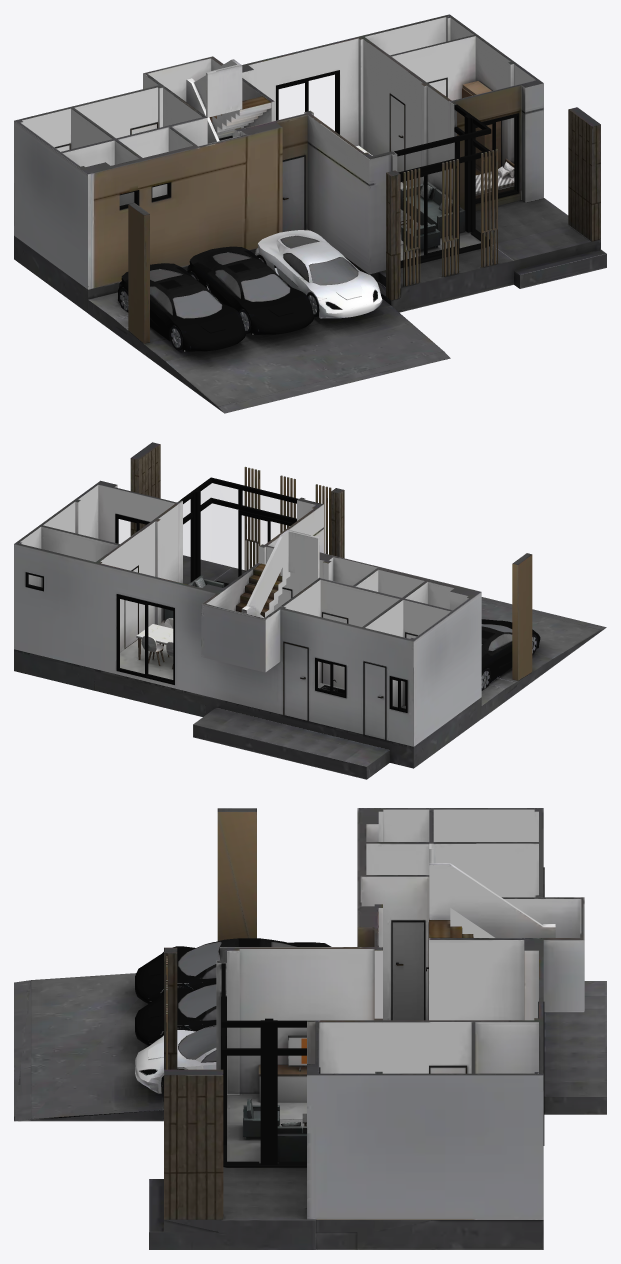
File: SH2509_1stFloorBaked_v02.gltf
The picture shows the model from 3 angles, top to bottom: view 1: azimuth 30°, elevation 25°; view 2: azimuth 150°, elevation 25°; view 3: azimuth 270°, elevation 25°; orthographic projection. The views are drawn at different scales.
Visible parts, largest first — view 1: f1, f1.002, f1.005, car1, car2, car2.001, f1.004, f1.003, f1.001; view 2: f1, f1.002, f1.005, f1.004, car2.001, f1.003; view 3: f1, f1.002, f1.005, f1.004, f1.003, car2.001, car1, car2.
Part boxes in pixels (left/top/right/bottom): f1: left=14, top=14, right=543, bottom=289; f1.002: left=14, top=168, right=606, bottom=413; f1.005: left=55, top=77, right=600, bottom=343; car1: left=255, top=230, right=382, bottom=318; car2: left=187, top=246, right=314, bottom=334; car2.001: left=118, top=263, right=245, bottom=351; f1.004: left=119, top=70, right=519, bottom=267; f1.003: left=356, top=81, right=514, bottom=252; f1.001: left=460, top=127, right=489, bottom=236; f1: left=14, top=480, right=481, bottom=746; f1.002: left=14, top=555, right=606, bottom=779; f1.005: left=124, top=442, right=532, bottom=739; f1.004: left=25, top=477, right=407, bottom=712; car2.001: left=481, top=619, right=540, bottom=690; f1.003: left=136, top=575, right=344, bottom=693; f1: left=216, top=808, right=584, bottom=1219; f1.002: left=14, top=973, right=606, bottom=1249; f1.005: left=164, top=808, right=544, bottom=1219; f1.004: left=221, top=867, right=544, bottom=1167; f1.003: left=243, top=1035, right=306, bottom=1162; car2.001: left=135, top=938, right=331, bottom=1003; car1: left=135, top=1025, right=216, bottom=1093; car2: left=135, top=983, right=216, bottom=1045.
Size of the model in its own units: 9.7 by 3.89 by 9.09.
Materials: 7 (7 with a texture image).
